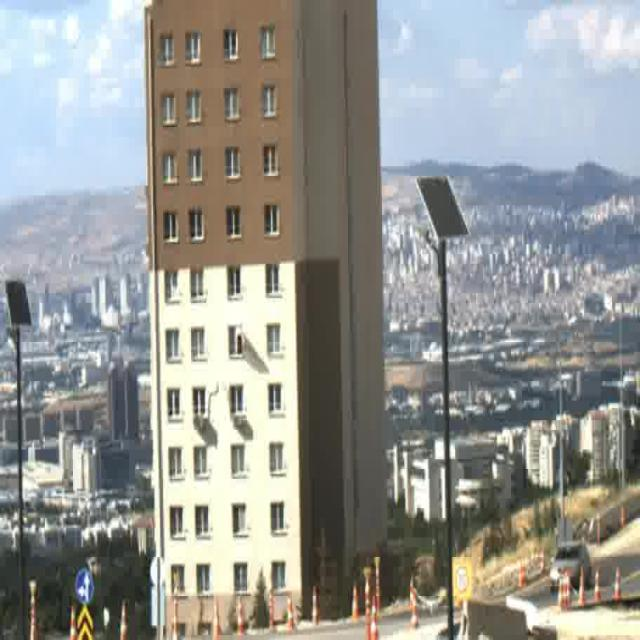Car: (548, 544, 594, 594)
